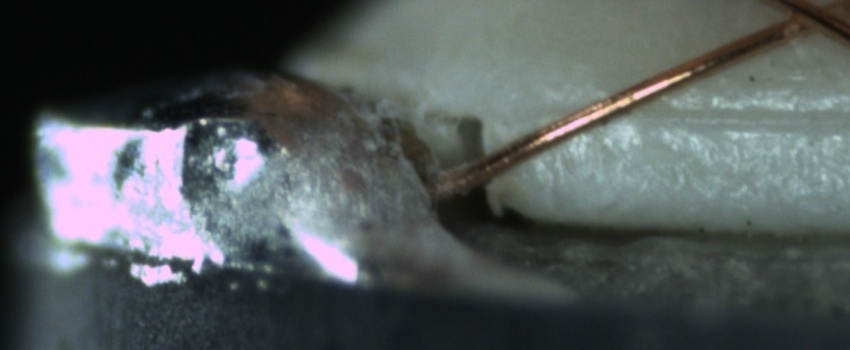CL: (760, 0, 844, 43)
DL: (546, 83, 846, 147)
